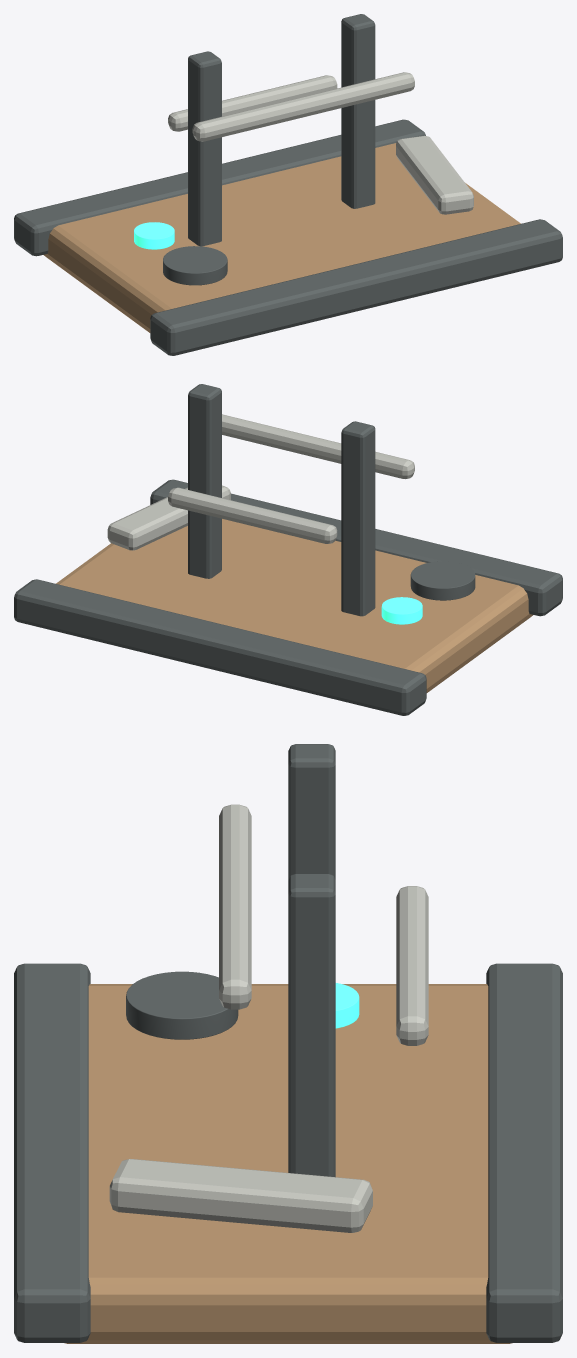
Rendered from launch_stand.glb.
3 views of the same model, one above another, from view 1: azimuth 30°, elevation 25°; view 2: azimuth 150°, elevation 25°; view 3: azimuth 270°, elevation 25° (orthographic). The views are drawn at different scales.
Parts seen in each view (by area): view 1: Launch_Stand_Base, Launch_Stand_Front_Foot, Launch_Stand_Back_Foot, Launch_Stand_Right_Upright, Launch_Stand_Left_Upright, Launch_Stand_Soft_Cradle_A, Launch_Stand_Abstract_Lever, Launch_Stand_Soft_Cradle_B, Launch_Stand_Round_Button, Launch_Stand_Indicator_Lens; view 2: Launch_Stand_Base, Launch_Stand_Back_Foot, Launch_Stand_Left_Upright, Launch_Stand_Front_Foot, Launch_Stand_Right_Upright, Launch_Stand_Soft_Cradle_B, Launch_Stand_Soft_Cradle_A, Launch_Stand_Abstract_Lever, Launch_Stand_Round_Button, Launch_Stand_Indicator_Lens; view 3: Launch_Stand_Base, Launch_Stand_Back_Foot, Launch_Stand_Front_Foot, Launch_Stand_Right_Upright, Launch_Stand_Abstract_Lever, Launch_Stand_Soft_Cradle_A, Launch_Stand_Left_Upright, Launch_Stand_Round_Button, Launch_Stand_Soft_Cradle_B, Launch_Stand_Indicator_Lens.
Part boxes in pixels (<box>): Launch_Stand_Base: <box>43,143,520,332</box>; Launch_Stand_Front_Foot: <box>150,219,562,355</box>; Launch_Stand_Back_Foot: <box>14,119,425,256</box>; Launch_Stand_Right_Upright: <box>341,14,375,208</box>; Launch_Stand_Left_Upright: <box>188,51,221,246</box>; Launch_Stand_Soft_Cradle_A: <box>192,72,414,141</box>; Launch_Stand_Abstract_Lever: <box>396,135,473,214</box>; Launch_Stand_Soft_Cradle_B: <box>168,75,337,131</box>; Launch_Stand_Round_Button: <box>163,246,227,285</box>; Launch_Stand_Indicator_Lens: <box>134,222,174,249</box>; Launch_Stand_Base: <box>56,519,532,692</box>; Launch_Stand_Back_Foot: <box>14,579,426,715</box>; Launch_Stand_Left_Upright: <box>341,421,375,616</box>; Launch_Stand_Front_Foot: <box>150,479,562,616</box>; Launch_Stand_Right_Upright: <box>188,384,221,578</box>; Launch_Stand_Soft_Cradle_B: <box>168,487,337,543</box>; Launch_Stand_Soft_Cradle_A: <box>222,414,414,479</box>; Launch_Stand_Abstract_Lever: <box>107,485,230,550</box>; Launch_Stand_Round_Button: <box>410,561,475,600</box>; Launch_Stand_Indicator_Lens: <box>381,597,422,624</box>; Launch_Stand_Base: <box>64,984,512,1343</box>; Launch_Stand_Back_Foot: <box>486,963,562,1342</box>; Launch_Stand_Front_Foot: <box>14,963,90,1342</box>; Launch_Stand_Right_Upright: <box>288,874,335,1177</box>; Launch_Stand_Abstract_Lever: <box>109,1159,372,1232</box>; Launch_Stand_Soft_Cradle_A: <box>219,804,251,1009</box>; Launch_Stand_Left_Upright: <box>288,744,335,880</box>; Launch_Stand_Round_Button: <box>126,971,238,1039</box>; Launch_Stand_Soft_Cradle_B: <box>396,886,428,1045</box>; Launch_Stand_Indicator_Lens: <box>335,983,359,1028</box>.
Size of the model in its own units: 1.34 by 0.71 by 0.93.
